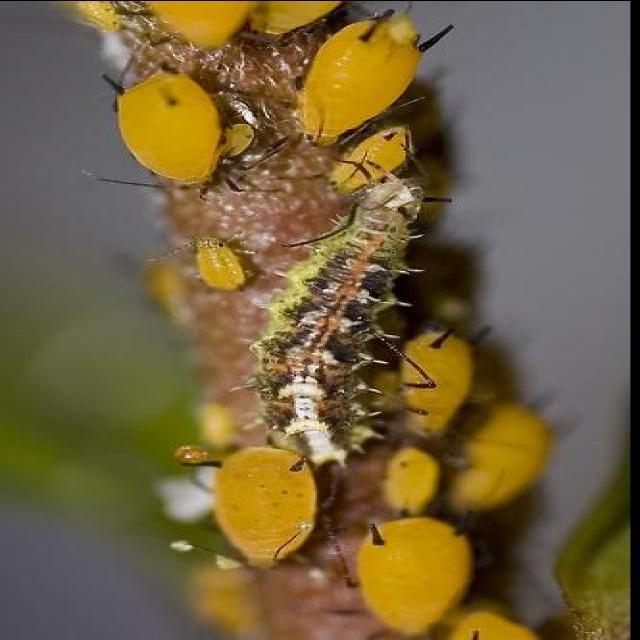aphid: (100, 37, 269, 213), (261, 1, 448, 147), (362, 304, 510, 442), (186, 435, 326, 580), (349, 505, 499, 640), (308, 114, 428, 210), (185, 224, 263, 304)
